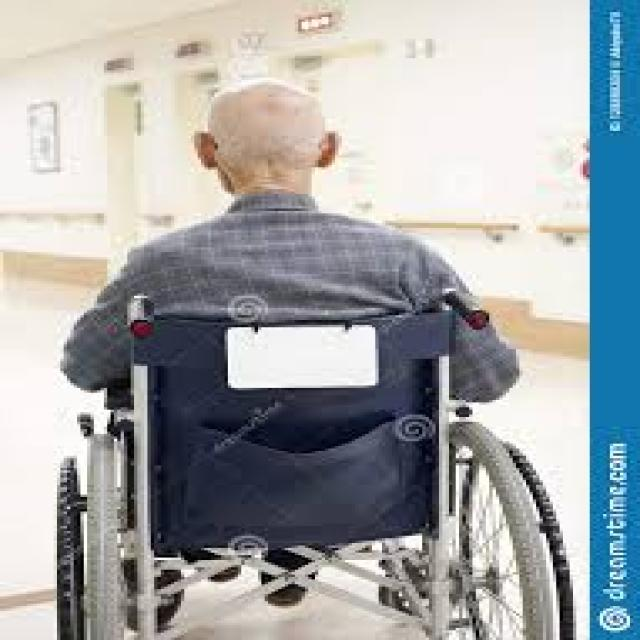wheelchairs: (34, 288, 593, 638)
